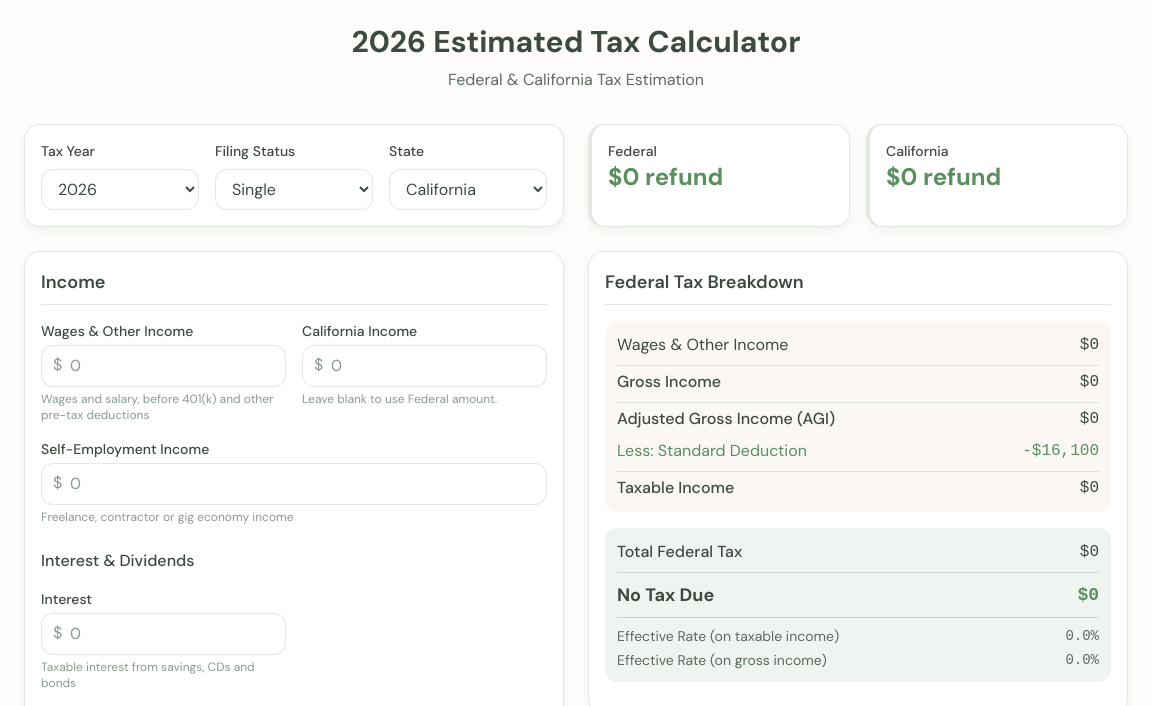
Test: TaxCalculator › compares married filing jointly with filing separately
The image size is (1152, 706).
Select "Married Filing Jointly" in the dropdown labelled "Filing Status" at (294, 190), box [215,169,373,210]
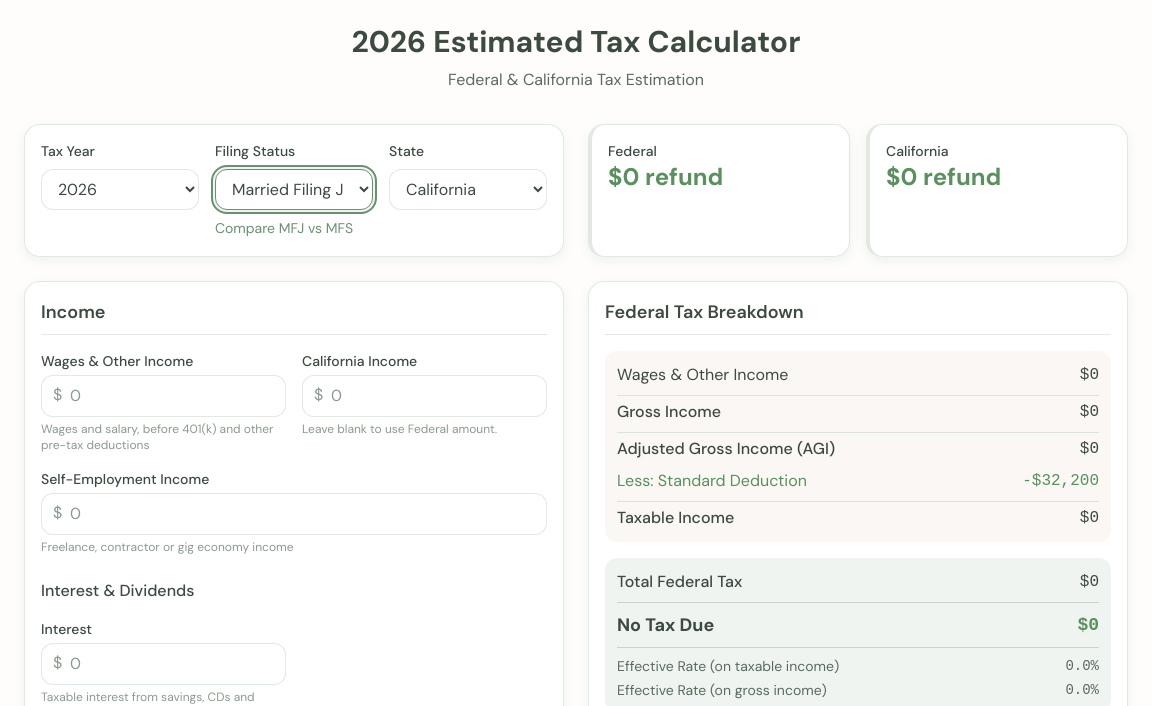
Select "Florida" in the dropdown labelled "State" at (468, 190), box [389,169,547,210]
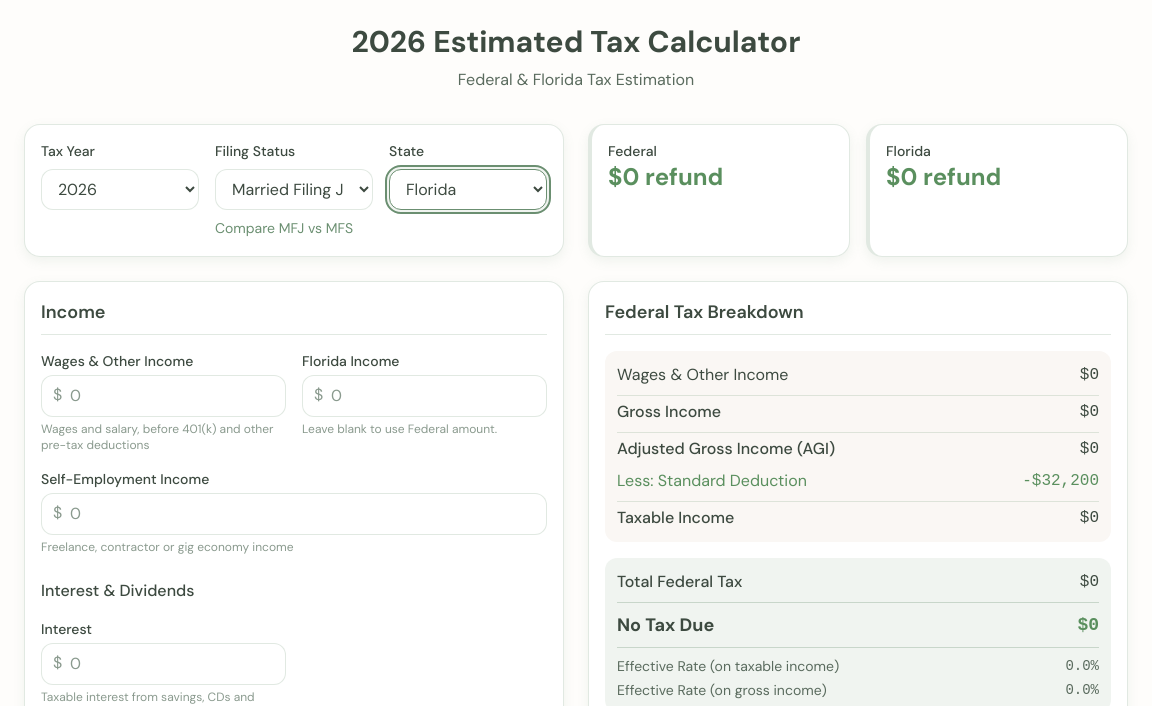
Type "232200" into the field labelled "Wages & Other Income".
click(164, 396); type("232200")  # box [41,375,286,417]
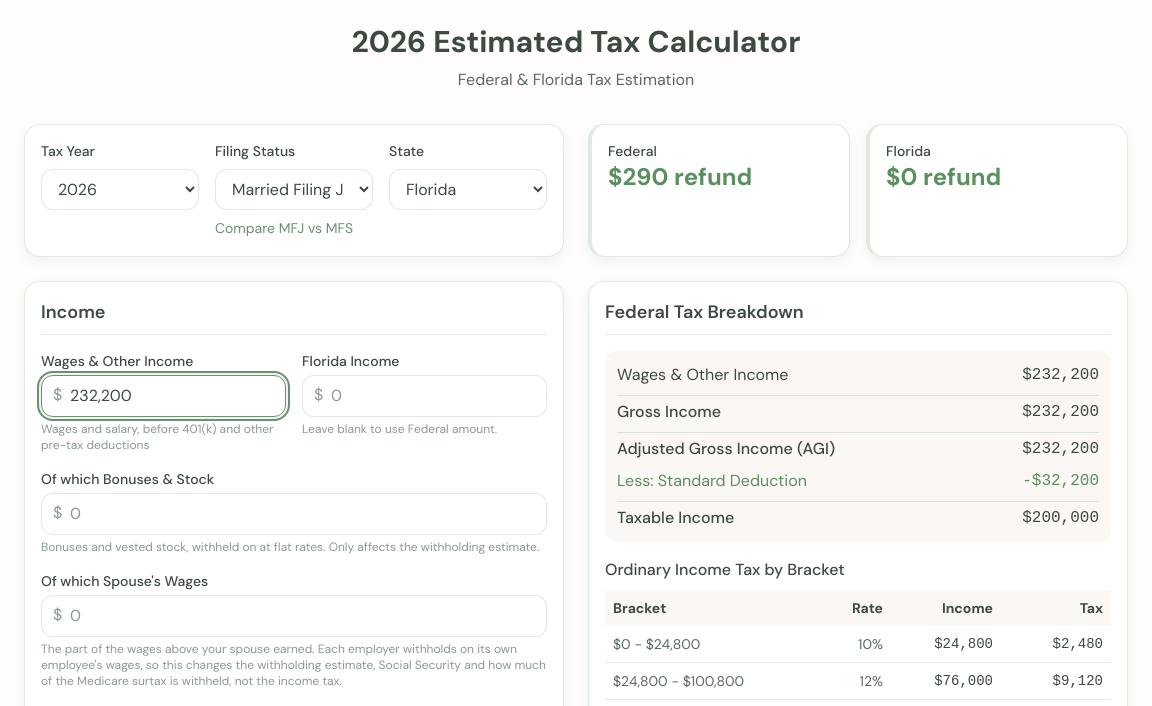
Press Tab
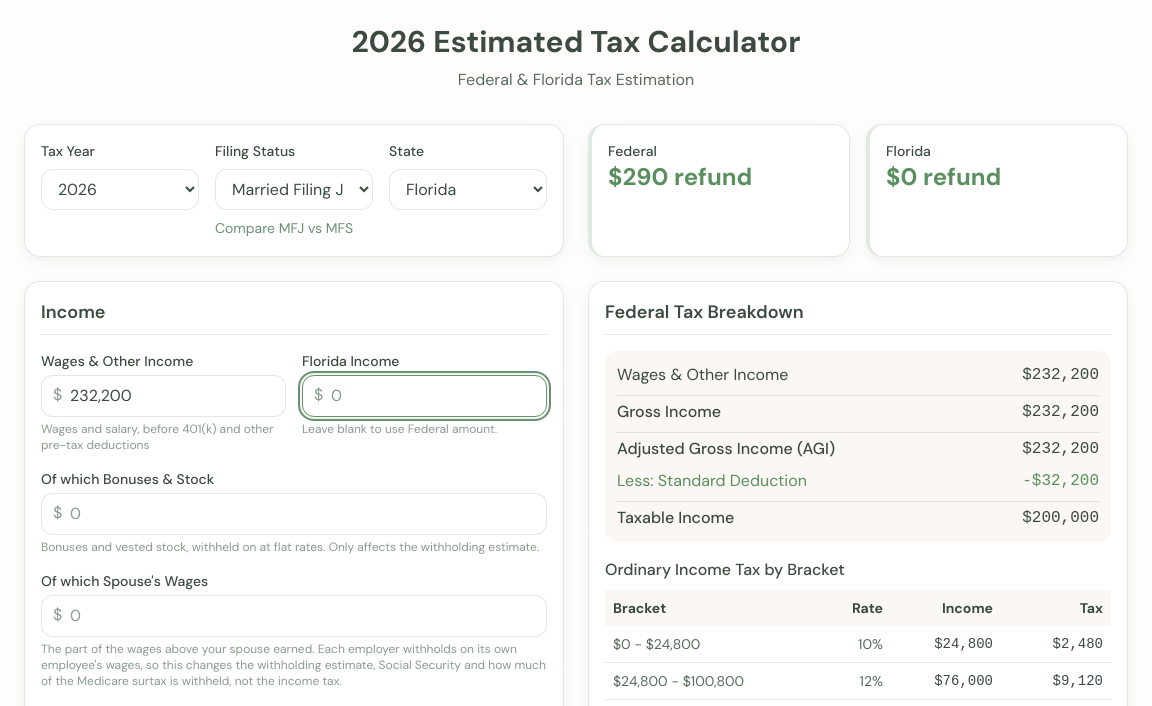
Click the button "Compare MFJ vs MFS".
click(284, 228)  # box [215,218,353,238]
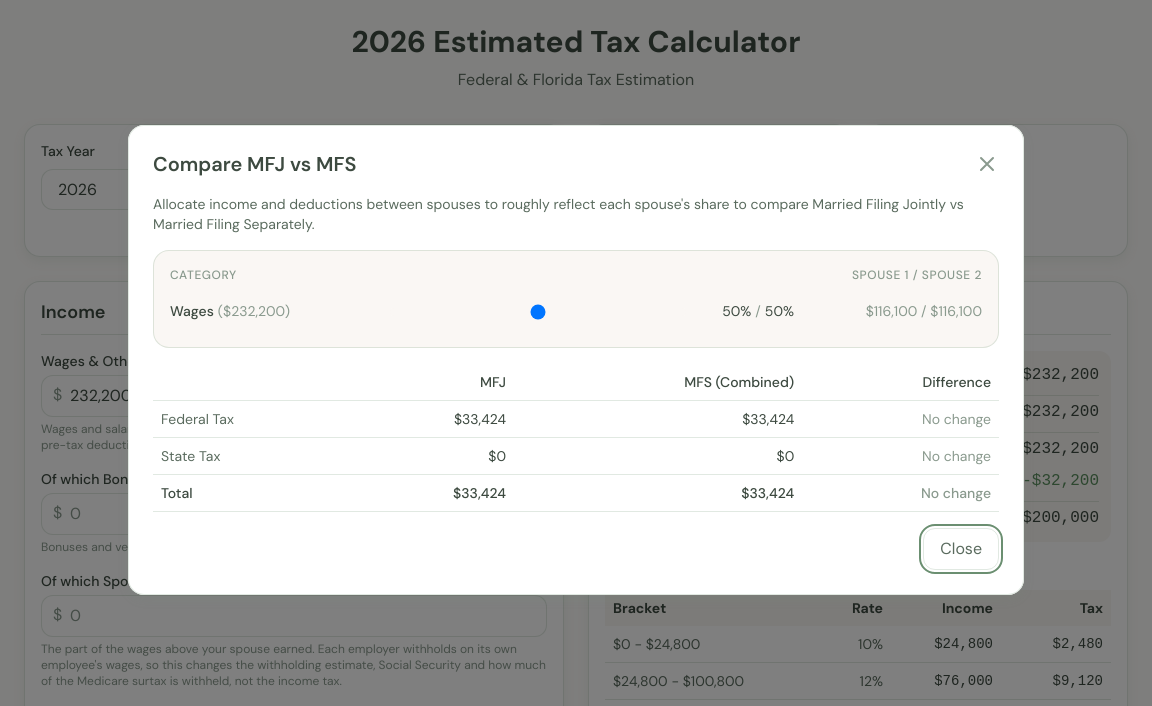
Result: the text "Federal Tax" reads "Federal Tax $33,424 $33,424 No change" at [153,400,999,438]
